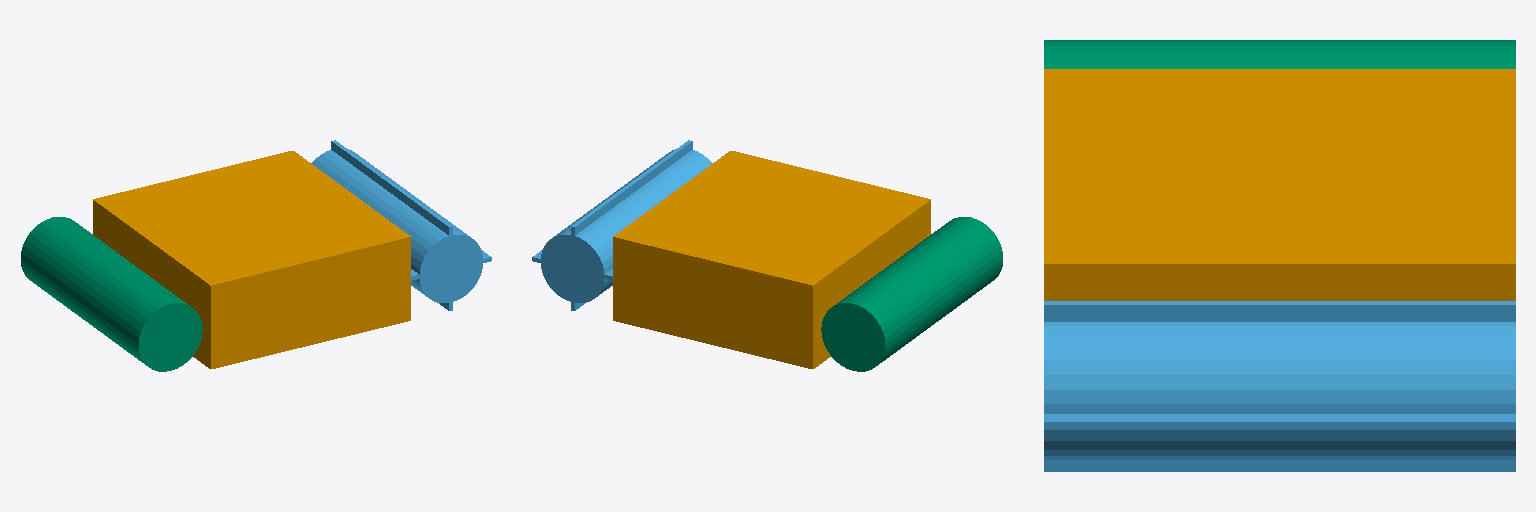
robot.urdf — example_track:
<?xml version="1.0" encoding="utf-8"?>
<!-- =================================================================================== -->
<!-- |    This document was autogenerated by xacro from urdf_xacro/example_track_gazebo.urdf.xacro | -->
<!-- |    EDITING THIS FILE BY HAND IS NOT RECOMMENDED                                 | -->
<!-- =================================================================================== -->
<robot name="example_track">
  <!-- -->
  <!--                                                                                       -->
  <!-- macros for making track                                                               -->
  <!--     * useful when difining entities for ContinuousTrack plugin                        -->
  <!--     * see gazebo_continuous_track_example/urdf/example_track.urdf.xacro to know usage -->
  <!--                                                                                       -->
  <!-- macros which expand to inertial/collision/visual -->
  <!-- macros which expand to box/polyline collision and visual. convenient when defining pattern elements on a track -->
  <!-- macros for populating general links/joints -->
  <!-- track segment templates which can be used with above population macros -->
  <!-- macros for populating track segments with above population macros and above templates -->
  <!-- macro which expands to plugin definition -->
  <!-- main entry point: macro for making oval track by ContinuousTrack plugin -->
  <!-- URDF file for general ROS systems such as ros_control, rviz, etc.           -->
  <!-- We define here;                                                             -->
  <!--     * a body to be wrapped by the track                                     -->
  <!--     * a sprocket to drive the track                                         -->
  <!--     * an axle and actuator for the sprocket                                 -->
  <!--     * an idler wheel on the other side of the sprocket                      -->
  <!-- Other entities specialized for Gazebo are defined in *_gazebo.urdf.xacro .  -->
  <!-- body to be wrapped by the track: box -->
  <link name="body">
    <inertial>
      <mass value="1"/>
      <inertia ixx="0.0250083333333" ixy="0" ixz="0" iyy="0.0241666666667" iyz="0" izz="0.0425083333333"/>
    </inertial>
    <visual>
      <geometry>
        <box size="0.5 0.51 0.2"/>
      </geometry>
    </visual>
    <collision>
      <geometry>
        <box size="0.51 0.5 0.2"/>
      </geometry>
    </collision>
  </link>
  <!-- sprocket driving the track : cylinder -->
  <link name="sprocket">
    <inertial>
      <mass value="0.2"/>
      <!-- assuming axis of cylinder is y, not z -->
      <inertia ixx="0.004655" ixy="0" ixz="0" iyy="0.00064" iyz="0" izz="0.004655"/>
    </inertial>
    <visual>
      <origin rpy="1.57079632679 0 0" xyz="0 0 0"/>
      <geometry>
        <cylinder length="0.51" radius="0.08"/>
      </geometry>
    </visual>
    <visual>
      <geometry>
        <box size="0.01 0.51 0.20"/>
      </geometry>
    </visual>
    <visual>
      <geometry>
        <box size="0.20 0.51 0.01"/>
      </geometry>
    </visual>
    <collision>
      <origin rpy="1.57079632679 0 0" xyz="0 0 0"/>
      <geometry>
        <cylinder length="0.51" radius="0.08"/>
      </geometry>
    </collision>
  </link>
  <joint name="sprocket_axle" type="continuous">
    <origin rpy="0 0 0" xyz="0.35 0 0"/>
    <parent link="body"/>
    <child link="sprocket"/>
    <axis xyz="0 1 0"/>
  </joint>
  <transmission name="sprocket_transmission">
    <type>transmission_interface/SimpleTransmission</type>
    <joint name="sprocket_axle">
      <hardwareInterface>hardware_interface/VelocityJointInterface</hardwareInterface>
    </joint>
    <actuator name="sprocket_actuator">
      <mechanicalReduction>1</mechanicalReduction>
    </actuator>
  </transmission>
  <!-- idler on the other side of the sprocket: cylinder -->
  <link name="idler">
    <inertial>
      <mass value="0.2"/>
      <!-- assuming axis of cylinder is y, not z -->
      <inertia ixx="0.004655" ixy="0" ixz="0" iyy="0.00064" iyz="0" izz="0.004655"/>
    </inertial>
    <visual>
      <origin rpy="1.57079632679 0 0" xyz="0 0 0"/>
      <geometry>
        <cylinder length="0.51" radius="0.08"/>
      </geometry>
    </visual>
    <collision>
      <origin rpy="1.57079632679 0 0" xyz="0 0 0"/>
      <geometry>
        <cylinder length="0.51" radius="0.08"/>
      </geometry>
    </collision>
  </link>
  <joint name="idler_axle" type="fixed">
    <origin rpy="0 0 0" xyz="-0.35 0 0"/>
    <parent link="body"/>
    <child link="idler"/>
  </joint>
  <!-- -->
  <gazebo>
    <link name="track_straight_segment_link0">
      <pose>-0.35 0 0.115 0 0 0</pose>
      <inertial>
        <pose>0.35 0 -0.0575 0 0 0</pose>
        <mass>0.1</mass>
        <inertia>
          <ixx>0.00219354166667</ixx>
          <ixy>0</ixy>
          <ixz>0</ixz>
          <iyy>0.00419354166667</iyy>
          <iyz>0</iyz>
          <izz>0.00616666666667</izz>
        </inertia>
      </inertial>
      <collision name="collision">
        <pose>0.35 0 -0.0575 0 0 0</pose>
        <geometry>
          <box>
            <size>0.7 0.5 0.115</size>
          </box>
        </geometry>
        <surface>
          <friction>
            <ode>
              <mu>0.5</mu>
              <mu2>0.5</mu2>
            </ode>
          </friction>
          <contact>
            <ode>
              <min_depth>0.01</min_depth>
            </ode>
          </contact>
        </surface>
      </collision>
      <visual name="visual">
        <pose>0.35 0 -0.0575 0 0 0</pose>
        <geometry>
          <box>
            <size>0.7 0.5 0.115</size>
          </box>
        </geometry>
        <material>
          <ambient>0.1 0.1 0.3 1</ambient>
          <diffuse>0.2 0.2 0.2 1</diffuse>
          <specular>0 0 0 1</specular>
          <emissive>0 0 0 1</emissive>
        </material>
      </visual>
    </link>
  </gazebo>
  <gazebo>
    <link name="track_straight_segment_link1">
      <pose>0.35 0 -0.115 0 3.14159265359 0</pose>
      <inertial>
        <pose>0.35 0 -0.0575 0 0 0</pose>
        <mass>0.1</mass>
        <inertia>
          <ixx>0.00219354166667</ixx>
          <ixy>0</ixy>
          <ixz>0</ixz>
          <iyy>0.00419354166667</iyy>
          <iyz>0</iyz>
          <izz>0.00616666666667</izz>
        </inertia>
      </inertial>
      <collision name="collision">
        <pose>0.35 0 -0.0575 0 0 0</pose>
        <geometry>
          <box>
            <size>0.7 0.5 0.115</size>
          </box>
        </geometry>
        <surface>
          <friction>
            <ode>
              <mu>0.5</mu>
              <mu2>0.5</mu2>
            </ode>
          </friction>
          <contact>
            <ode>
              <min_depth>0.01</min_depth>
            </ode>
          </contact>
        </surface>
      </collision>
      <visual name="visual">
        <pose>0.35 0 -0.0575 0 0 0</pose>
        <geometry>
          <box>
            <size>0.7 0.5 0.115</size>
          </box>
        </geometry>
        <material>
          <ambient>0.1 0.1 0.3 1</ambient>
          <diffuse>0.2 0.2 0.2 1</diffuse>
          <specular>0 0 0 1</specular>
          <emissive>0 0 0 1</emissive>
        </material>
      </visual>
    </link>
  </gazebo>
  <gazebo>
    <joint name="track_straight_segment_joint0" type="prismatic">
      <child>track_straight_segment_link0</child>
      <parent>body</parent>
      <axis>
        <xyz>1 0 0</xyz>
        <use_parent_model_frame>0</use_parent_model_frame>
      </axis>
      <physics>
        <ode>
          <implicit_spring_damper>1</implicit_spring_damper>
        </ode>
      </physics>
    </joint>
  </gazebo>
  <gazebo>
    <joint name="track_straight_segment_joint1" type="prismatic">
      <child>track_straight_segment_link1</child>
      <parent>body</parent>
      <axis>
        <xyz>1 0 0</xyz>
        <use_parent_model_frame>0</use_parent_model_frame>
      </axis>
      <physics>
        <ode>
          <implicit_spring_damper>1</implicit_spring_damper>
        </ode>
      </physics>
    </joint>
  </gazebo>
  <gazebo>
    <link name="track_arc_segment_link0">
      <pose>0.35 0 0.115 0 0 0</pose>
      <inertial>
        <pose>0 0 -0.115 1.57079632679 0 0</pose>
        <mass>0.1</mass>
        <inertia>
          <ixx>0.00241395833333</ixx>
          <ixy>0</ixy>
          <ixz>0</ixz>
          <iyy>0.00241395833333</iyy>
          <iyz>0</iyz>
          <izz>0.00066125</izz>
        </inertia>
      </inertial>
      <collision name="collision">
        <pose>0 0 -0.115 1.57079632679 0 0</pose>
        <geometry>
          <cylinder>
            <length>0.5</length>
            <radius>0.115</radius>
          </cylinder>
        </geometry>
        <surface>
          <friction>
            <ode>
              <mu>0.5</mu>
              <mu2>0.5</mu2>
            </ode>
          </friction>
          <contact>
            <ode>
              <min_depth>0.01</min_depth>
            </ode>
          </contact>
        </surface>
      </collision>
      <visual name="visual">
        <pose>0 0 -0.115 1.57079632679 0 0</pose>
        <geometry>
          <cylinder>
            <length>0.5</length>
            <radius>0.115</radius>
          </cylinder>
        </geometry>
        <material>
          <ambient>0.1 0.1 0.3 1</ambient>
          <diffuse>0.2 0.2 0.2 1</diffuse>
          <specular>0 0 0 1</specular>
          <emissive>0 0 0 1</emissive>
        </material>
      </visual>
    </link>
  </gazebo>
  <gazebo>
    <link name="track_arc_segment_link1">
      <pose>-0.35 0 -0.115 0 3.14159265359 0</pose>
      <inertial>
        <pose>0 0 -0.115 1.57079632679 0 0</pose>
        <mass>0.1</mass>
        <inertia>
          <ixx>0.00241395833333</ixx>
          <ixy>0</ixy>
          <ixz>0</ixz>
          <iyy>0.00241395833333</iyy>
          <iyz>0</iyz>
          <izz>0.00066125</izz>
        </inertia>
      </inertial>
      <collision name="collision">
        <pose>0 0 -0.115 1.57079632679 0 0</pose>
        <geometry>
          <cylinder>
            <length>0.5</length>
            <radius>0.115</radius>
          </cylinder>
        </geometry>
        <surface>
          <friction>
            <ode>
              <mu>0.5</mu>
              <mu2>0.5</mu2>
            </ode>
          </friction>
          <contact>
            <ode>
              <min_depth>0.01</min_depth>
            </ode>
          </contact>
        </surface>
      </collision>
      <visual name="visual">
        <pose>0 0 -0.115 1.57079632679 0 0</pose>
        <geometry>
          <cylinder>
            <length>0.5</length>
            <radius>0.115</radius>
          </cylinder>
        </geometry>
        <material>
          <ambient>0.1 0.1 0.3 1</ambient>
          <diffuse>0.2 0.2 0.2 1</diffuse>
          <specular>0 0 0 1</specular>
          <emissive>0 0 0 1</emissive>
        </material>
      </visual>
    </link>
  </gazebo>
  <gazebo>
    <joint name="track_arc_segment_joint0" type="revolute">
      <child>track_arc_segment_link0</child>
      <parent>body</parent>
      <pose>0 0 -0.115 0 0 0</pose>
      <axis>
        <xyz>0 1 0</xyz>
        <use_parent_model_frame>0</use_parent_model_frame>
      </axis>
      <physics>
        <ode>
          <implicit_spring_damper>1</implicit_spring_damper>
        </ode>
      </physics>
    </joint>
  </gazebo>
  <gazebo>
    <joint name="track_arc_segment_joint1" type="revolute">
      <child>track_arc_segment_link1</child>
      <parent>body</parent>
      <pose>0 0 -0.115 0 0 0</pose>
      <axis>
        <xyz>0 1 0</xyz>
        <use_parent_model_frame>0</use_parent_model_frame>
      </axis>
      <physics>
        <ode>
          <implicit_spring_damper>1</implicit_spring_damper>
        </ode>
      </physics>
    </joint>
  </gazebo>
  <gazebo>
    <plugin filename="libContinuousTrack.so" name="track">
      <sprocket>
        <joint>sprocket_axle</joint>
        <pitch_diameter>0.24</pitch_diameter>
      </sprocket>
      <trajectory>
        <segment>
          <joint>track_straight_segment_joint0</joint>
          <end_position>0.7</end_position>
        </segment>
        <segment>
          <joint>track_arc_segment_joint0</joint>
          <end_position>3.14159265359</end_position>
        </segment>
        <segment>
          <joint>track_straight_segment_joint1</joint>
          <end_position>0.7</end_position>
        </segment>
        <segment>
          <joint>track_arc_segment_joint1</joint>
          <end_position>3.14159265359</end_position>
        </segment>
      </trajectory>
      <pattern>
        <elements_per_round>40</elements_per_round>
        <element>
          <collision name="collision">
            <pose>0 0 0 0 0 0</pose>
            <geometry>
              <box>
                <size>0.02 0.5 0.02</size>
              </box>
            </geometry>
            <surface>
              <friction>
                <ode>
                  <mu>0.5</mu>
                  <mu2>0.5</mu2>
                </ode>
              </friction>
              <contact>
                <ode>
                  <min_depth>0.01</min_depth>
                </ode>
              </contact>
            </surface>
          </collision>
          <visual name="visual">
            <pose>0 0 0 0 0 0</pose>
            <geometry>
              <box>
                <size>0.02 0.5 0.02</size>
              </box>
            </geometry>
            <material>
              <ambient>0.1 0.1 0.3 1</ambient>
              <diffuse>0.2 0.2 0.2 1</diffuse>
              <specular>0 0 0 1</specular>
              <emissive>0 0 0 1</emissive>
            </material>
          </visual>
        </element>
        <element>
          <collision name="collision">
            <pose>0 0.25 0 1.57079632679 0 0</pose>
            <geometry>
              <polyline>
                <point>-0.02 -0.01</point>
                <point>-0.01 0.01</point>
                <point>0.01 0.01</point>
                <point>0.02 -0.01</point>
                <height>0.5</height>
              </polyline>
            </geometry>
            <surface>
              <friction>
                <ode>
                  <mu>0.5</mu>
                  <mu2>0.5</mu2>
                </ode>
              </friction>
              <contact>
                <ode>
                  <min_depth>0.01</min_depth>
                </ode>
              </contact>
            </surface>
          </collision>
          <visual name="visual">
            <pose>0 0.25 0 1.57079632679 0 0</pose>
            <geometry>
              <polyline>
                <point>-0.02 -0.01</point>
                <point>-0.01 0.01</point>
                <point>0.01 0.01</point>
                <point>0.02 -0.01</point>
                <height>0.5</height>
              </polyline>
            </geometry>
            <material>
              <ambient>0.1 0.1 0.3 1</ambient>
              <diffuse>0.2 0.2 0.2 1</diffuse>
              <specular>0 0 0 1</specular>
              <emissive>0 0 0 1</emissive>
            </material>
          </visual>
        </element>
      </pattern>
    </plugin>
  </gazebo>
  <!-- ros_control for gazebo -->
  <gazebo>
    <plugin filename="libgazebo_ros_control.so" name="gazebo_ros_control">
      <robotSimType>gazebo_ros_control/DefaultRobotHWSim</robotSimType>
      <legacyModeNS>false</legacyModeNS>
    </plugin>
  </gazebo>
</robot>

--- Facts derived from the render (not from the file) ---
3 views of the same robot in one strip: view 1: azimuth 30°, elevation 25°; view 2: azimuth 150°, elevation 25°; view 3: azimuth 270°, elevation 25° (orthographic).
Model example_track with 3 links and 2 joints (1 continuous, 1 fixed), rooted at body, posed all joints at 0.
Links seen in each view (by area): view 1: body, idler, sprocket; view 2: body, idler, sprocket; view 3: body, sprocket, idler.
Boxes of the visible links, x1=… form: body: x1=93, y1=151, x2=410, y2=368; idler: x1=21, y1=217, x2=202, y2=371; sprocket: x1=311, y1=140, x2=491, y2=310; body: x1=613, y1=151, x2=930, y2=368; idler: x1=821, y1=217, x2=1002, y2=371; sprocket: x1=532, y1=140, x2=712, y2=310; body: x1=1044, y1=69, x2=1515, y2=300; sprocket: x1=1044, y1=301, x2=1515, y2=471; idler: x1=1044, y1=40, x2=1515, y2=68.
Size in the robot's own frame: 0.88 by 0.51 by 0.2 metres.
Geometry: primitives only (box / cylinder / sphere), no mesh files.